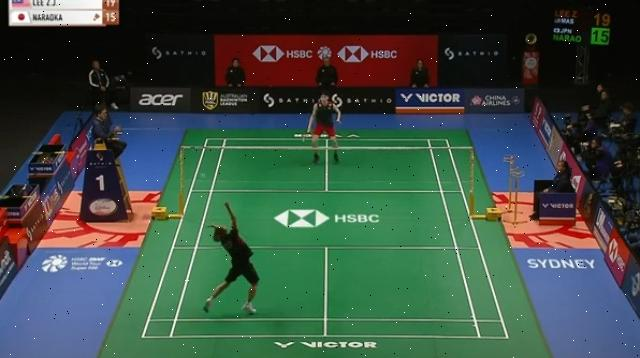Shuttlecock: (198, 170, 208, 180)
